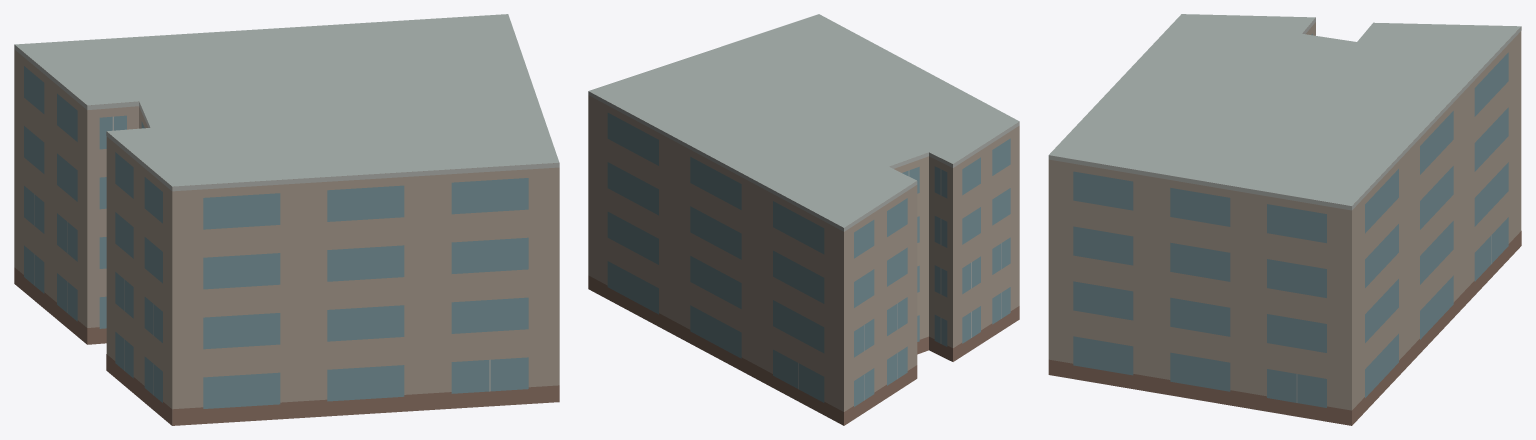
File: residential-87432464-07db-493b-84f5-5b1ecb171f40.glb
The picture shows the model from 3 angles, left to right: view 1: azimuth 30°, elevation 25°; view 2: azimuth 150°, elevation 25°; view 3: azimuth 270°, elevation 25°; orthographic projection. The views are drawn at different scales.
Visible parts, largest first — view 1: residential-87432464-07db-493b-84f5-5b1ecb171f40.tmp; view 2: residential-87432464-07db-493b-84f5-5b1ecb171f40.tmp; view 3: residential-87432464-07db-493b-84f5-5b1ecb171f40.tmp.
Part boxes in pixels (x1,y1,x2,y2): residential-87432464-07db-493b-84f5-5b1ecb171f40.tmp: [14, 14, 559, 425]; residential-87432464-07db-493b-84f5-5b1ecb171f40.tmp: [588, 14, 1019, 425]; residential-87432464-07db-493b-84f5-5b1ecb171f40.tmp: [1048, 14, 1521, 425].
Size of the model in its own units: 22.89 by 12.2 by 23.8.
